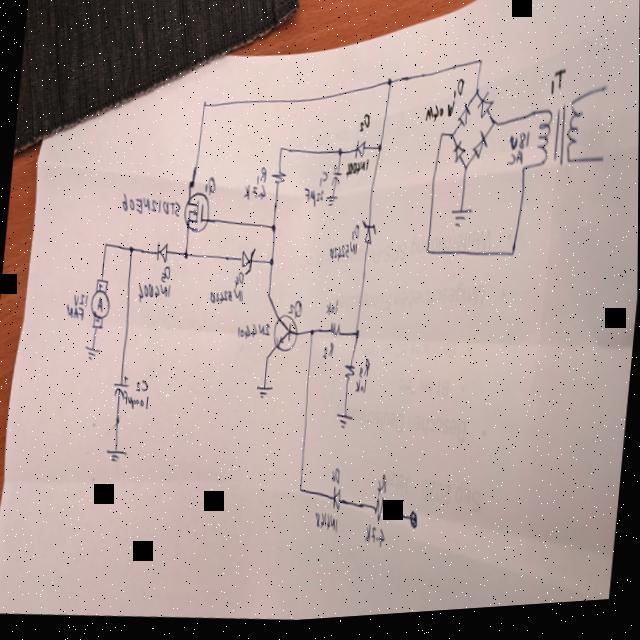capacitor: (112, 373, 130, 400), (330, 166, 342, 192)
diode: (471, 134, 490, 166), (477, 96, 494, 125), (359, 222, 377, 249), (239, 248, 255, 277), (456, 105, 472, 133), (451, 144, 466, 170), (155, 239, 169, 266), (353, 139, 366, 163), (331, 488, 342, 515)
ground: (449, 210, 472, 235), (104, 445, 128, 466), (254, 384, 274, 405), (334, 413, 354, 434), (84, 345, 101, 361), (324, 195, 339, 211)
junction: (508, 251, 516, 264), (309, 328, 316, 341), (520, 168, 527, 181), (127, 244, 135, 254), (336, 149, 344, 159), (264, 354, 271, 365), (462, 167, 469, 178), (490, 122, 497, 133), (375, 146, 383, 155), (386, 80, 393, 90), (270, 225, 277, 235), (268, 258, 275, 268), (182, 251, 189, 261), (473, 92, 480, 102), (439, 133, 446, 143), (449, 134, 456, 144), (424, 250, 430, 260), (266, 292, 272, 302), (354, 332, 360, 341), (477, 62, 483, 71), (103, 240, 109, 248), (298, 488, 303, 496), (202, 101, 207, 109), (279, 146, 284, 154)
resistor: (374, 497, 386, 526), (328, 322, 342, 342), (342, 366, 356, 386), (270, 172, 287, 188)
terminal: (408, 512, 420, 534), (597, 158, 606, 172), (601, 87, 610, 101)
text: (118, 191, 182, 221), (235, 319, 272, 346), (135, 281, 171, 307), (424, 103, 454, 131), (327, 241, 358, 267), (209, 286, 244, 309), (312, 511, 339, 538), (363, 526, 387, 553), (121, 389, 149, 412), (547, 71, 566, 103), (344, 160, 369, 183), (507, 135, 530, 158), (302, 189, 325, 211), (243, 184, 266, 205), (65, 301, 85, 322), (287, 300, 304, 322), (451, 80, 464, 106), (357, 359, 371, 383), (203, 176, 217, 198), (73, 289, 89, 308), (375, 477, 388, 500), (506, 155, 523, 172), (321, 343, 335, 363), (134, 377, 149, 395), (358, 115, 370, 137), (255, 166, 267, 188), (159, 264, 171, 285), (325, 302, 338, 319), (354, 381, 367, 398), (330, 469, 341, 489), (350, 223, 360, 245), (234, 273, 244, 291), (318, 172, 328, 189)
transformer: (533, 99, 585, 181)
transistor: (181, 190, 213, 236), (270, 310, 300, 358)
